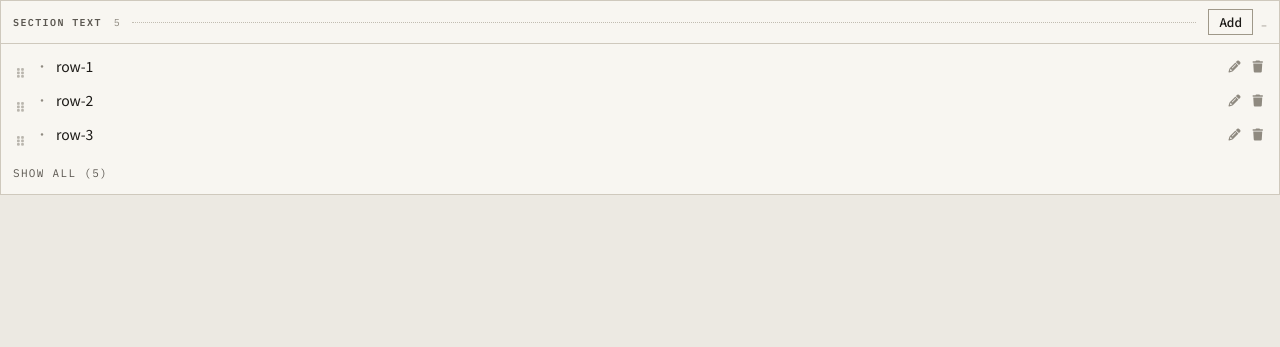
a folded section never hides what is being written › keeps a row being edited when the section folds
Click the button "Show all (5)" at (60, 173), box [13,165,108,182]
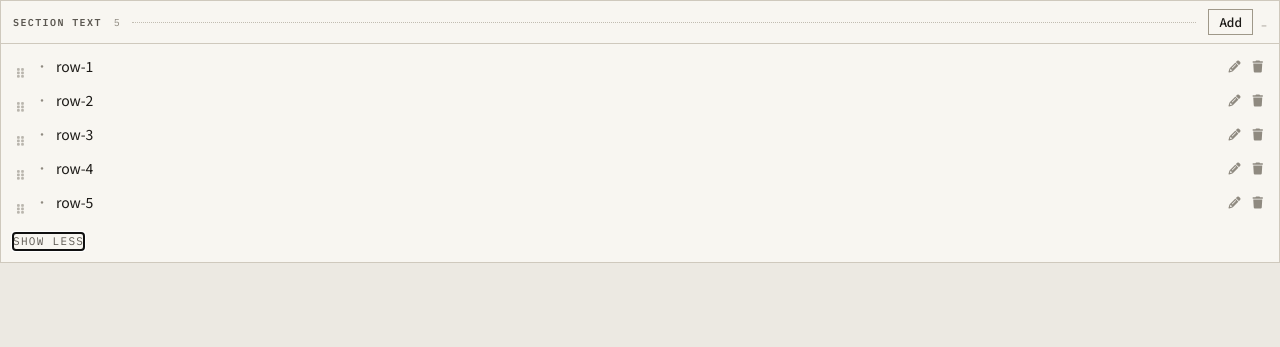
Click the button named "Edit" in the row of "row-5" at (1234, 202), box [1224,194,1244,210]
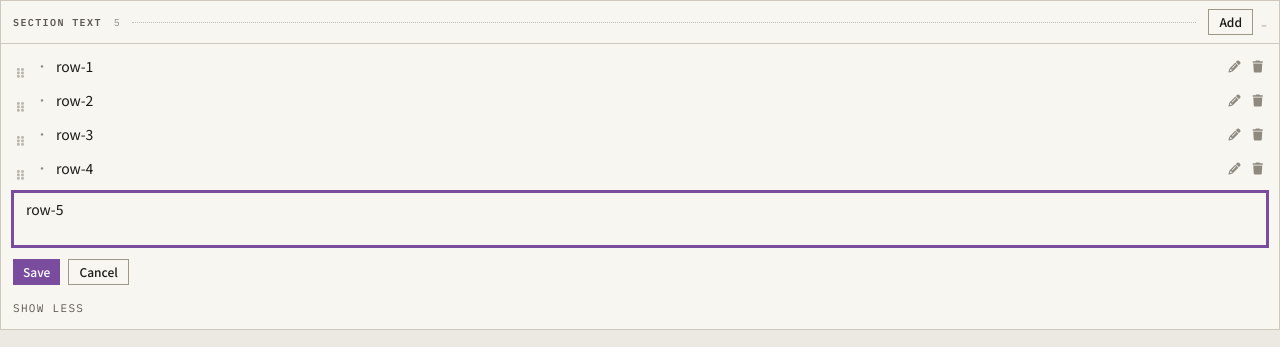
Click the button "Show less" at (49, 308), box [13,300,84,316]
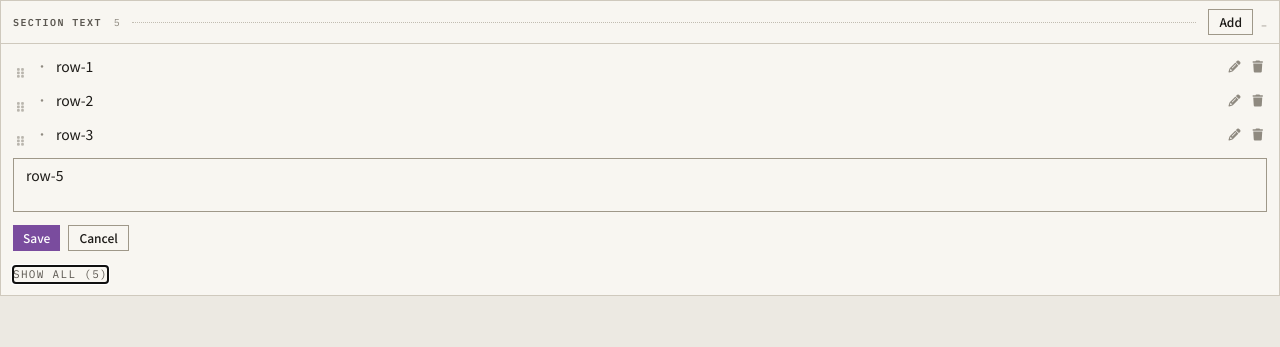
Expected: the text box showing "row-5" is shown, [13,158,1267,212]
Expected: the text "row-4" is gone
Expected: the number of buttons named "Edit" is 3, [1224,58,1244,74]; [1224,92,1244,108]; [1224,126,1244,142]
